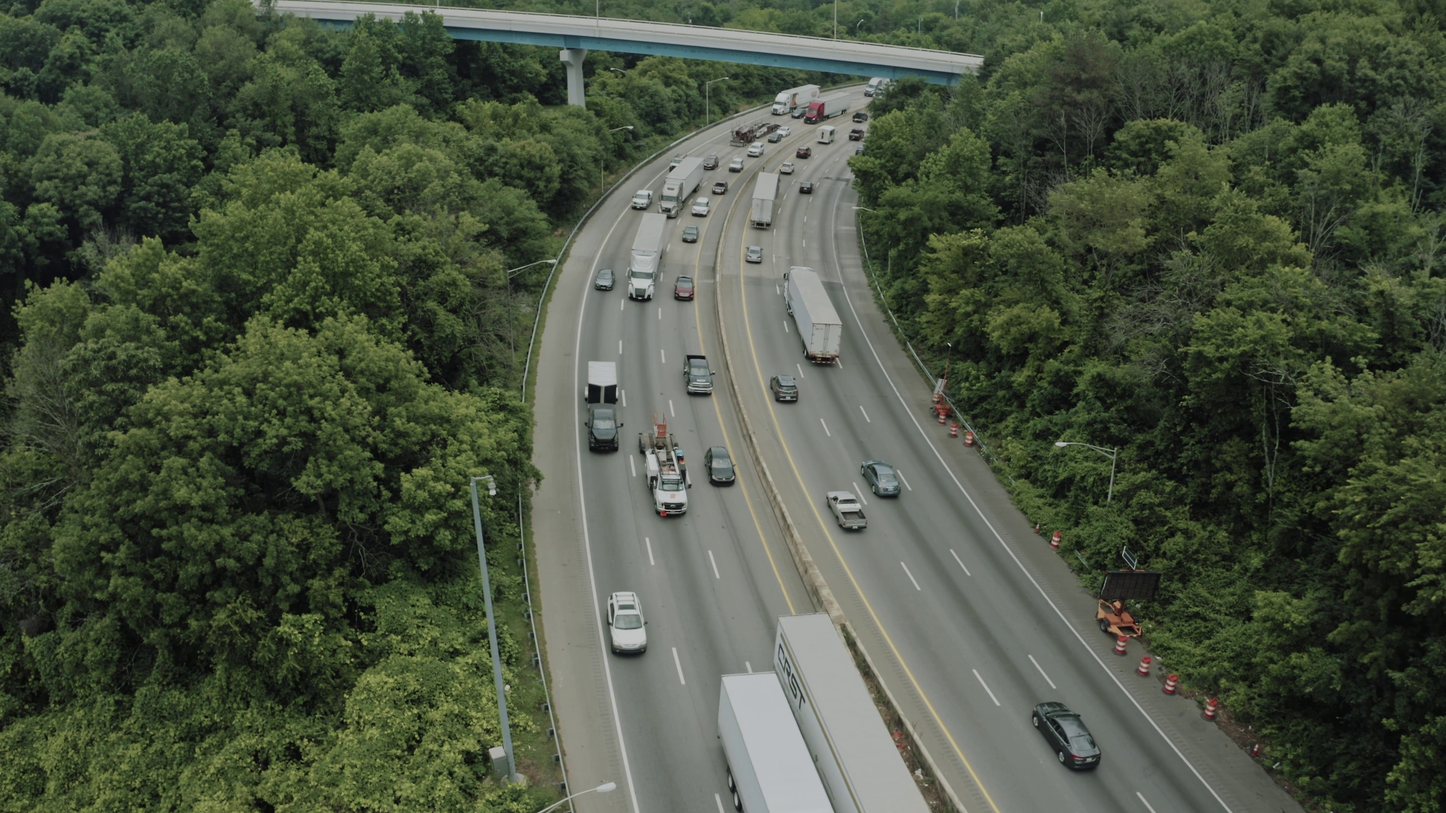Vehicle: (634, 422, 691, 517), (1032, 701, 1101, 771), (607, 591, 648, 655), (779, 262, 817, 311), (585, 403, 623, 452), (826, 491, 868, 531), (826, 491, 868, 530), (860, 460, 901, 498), (704, 446, 736, 487), (683, 355, 715, 395), (750, 193, 777, 229), (770, 374, 799, 402), (815, 123, 842, 148), (729, 125, 757, 147), (770, 91, 793, 115), (674, 275, 695, 301), (864, 77, 890, 97), (594, 269, 615, 291), (691, 197, 710, 217), (631, 193, 653, 210), (669, 153, 688, 172), (682, 225, 699, 243), (745, 246, 763, 263), (747, 142, 765, 158), (704, 155, 719, 170), (712, 181, 728, 195), (729, 158, 744, 172), (780, 161, 795, 175), (799, 181, 814, 194), (849, 128, 864, 141), (796, 146, 811, 159), (791, 108, 808, 119), (852, 112, 868, 123), (776, 126, 791, 137), (771, 132, 782, 143), (855, 146, 865, 156)
